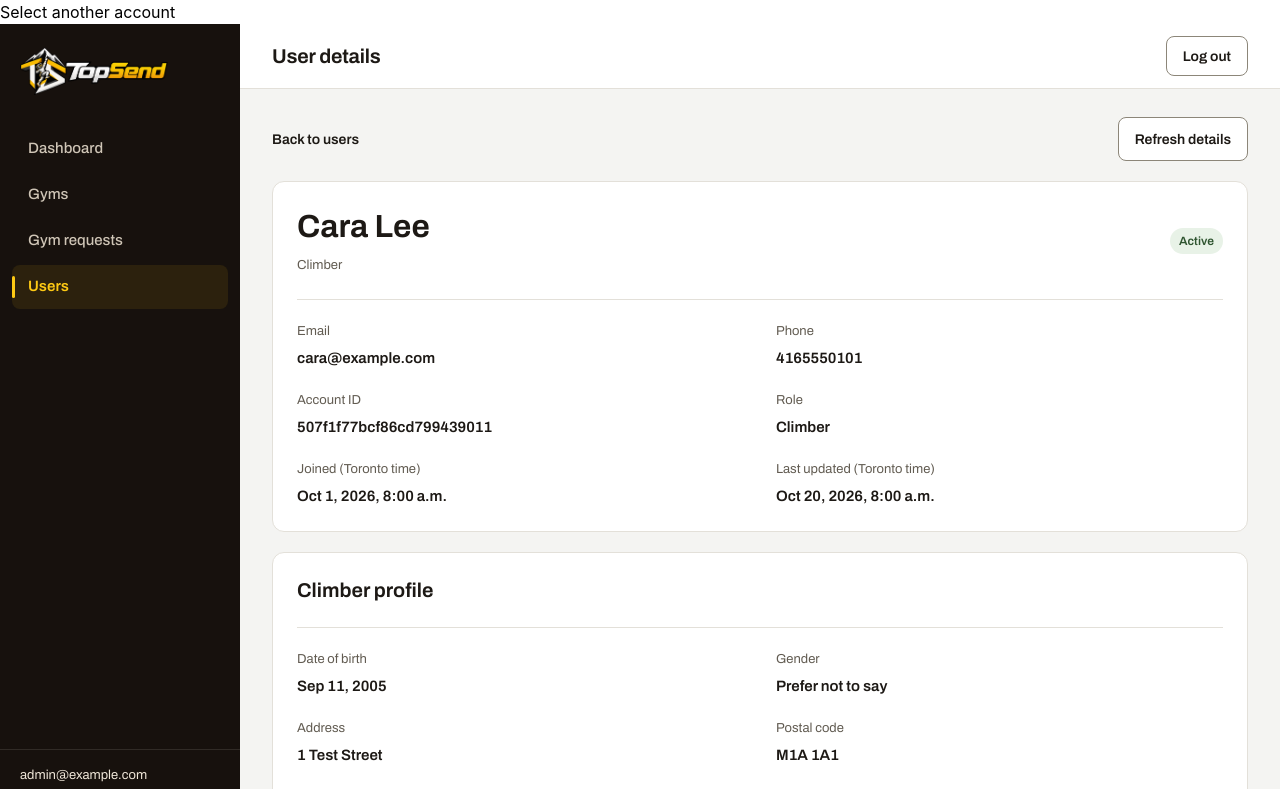
Test: US-008 selection and US-009 selected account information › removes private details after a refresh is forbidden
This screenshot has width=1280, height=789.
Expected: the heading "Cara Lee" is shown, x1=297 y1=206 x2=430 y2=248
What coordinates should you click on to do the following:
click the button "Refresh details"
I would click on:
 (1183, 139)
Its box is x1=1118 y1=117 x2=1248 y2=161.
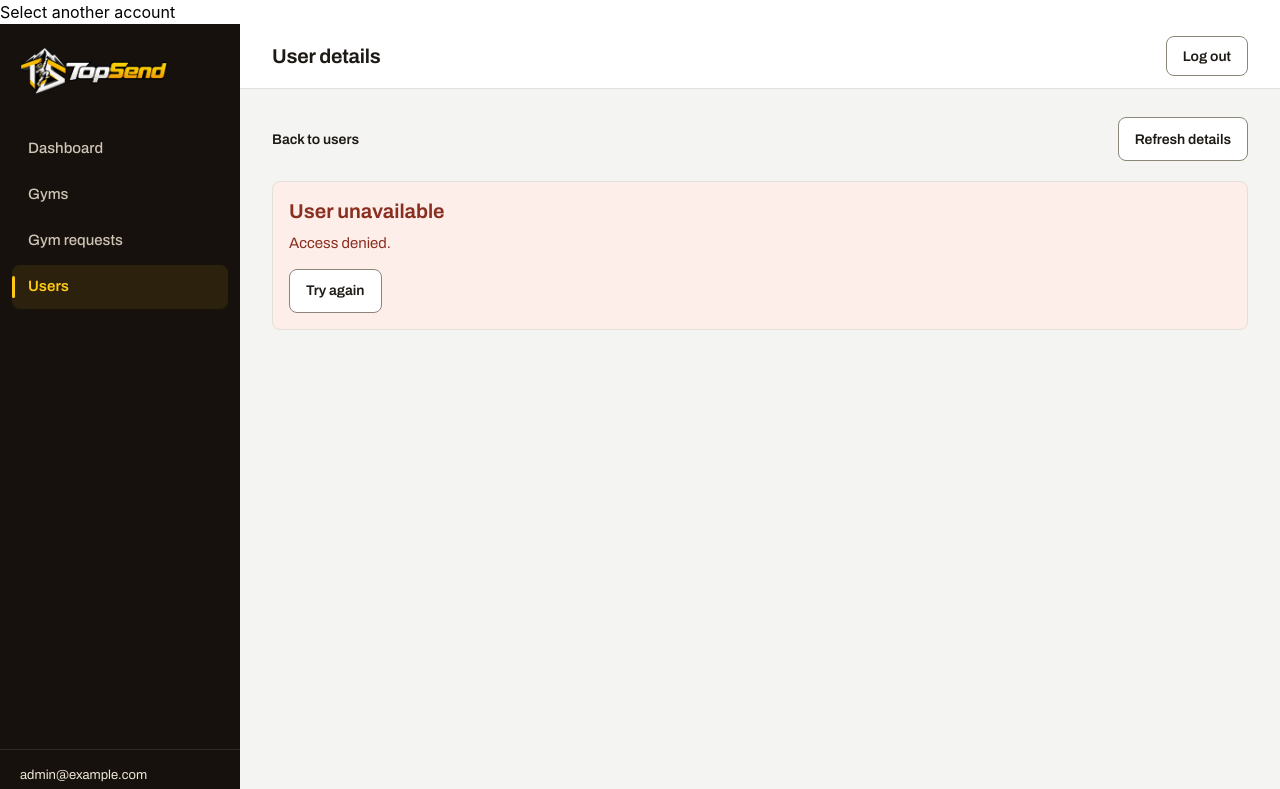
Now the text "Access denied." is shown, box x1=289 y1=235 x2=391 y2=251
Now the text "1 Test Street" is gone
